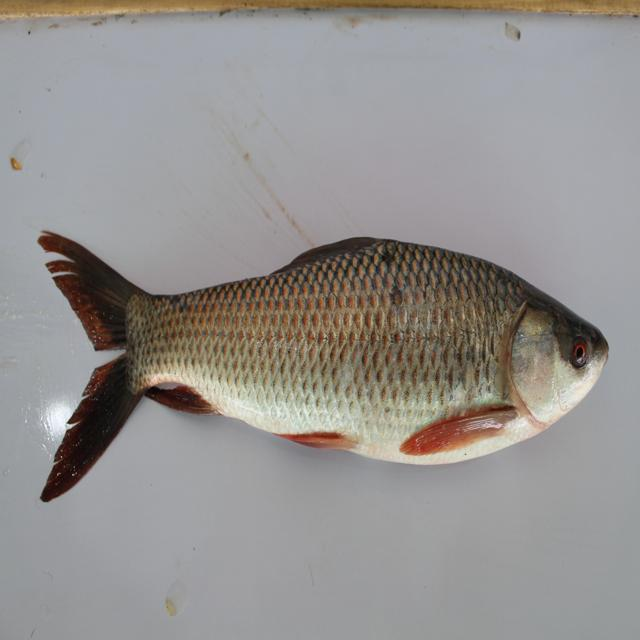Rohu: (22, 216, 604, 509)
